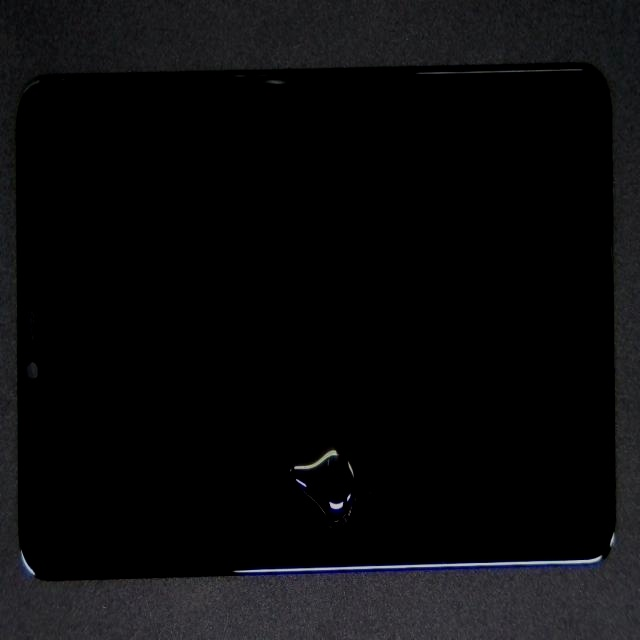oil: (191, 241, 529, 640)
